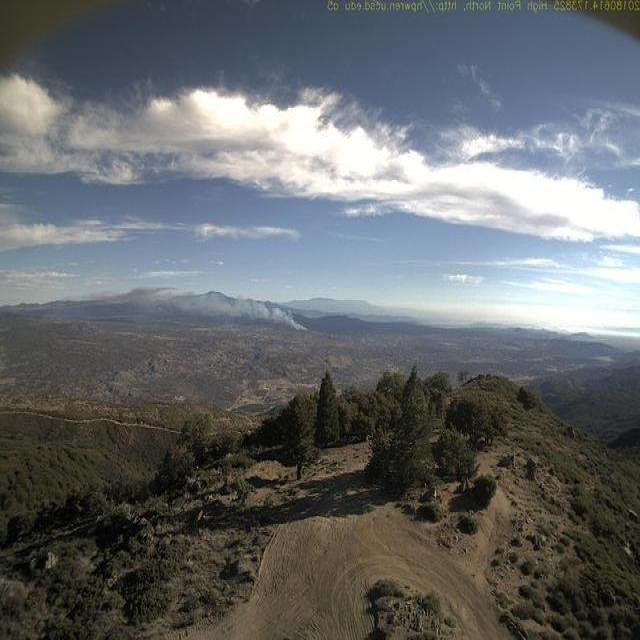Smoke: (147, 274, 313, 334)
